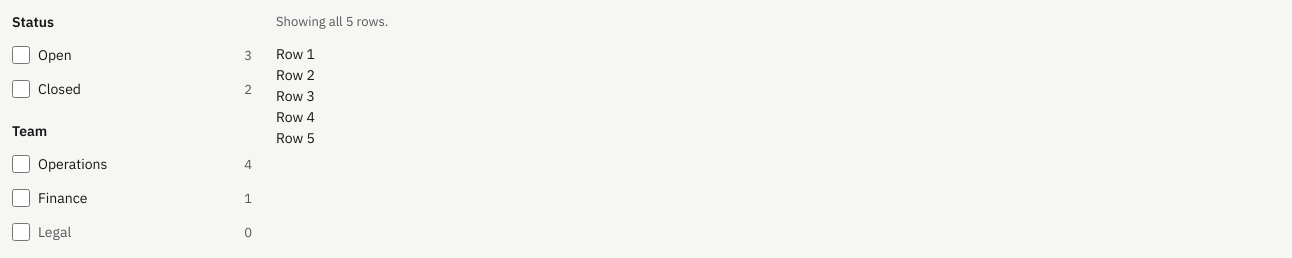
Test: FacetedFilters › moves focus to the results when the last chip or Clear all removes every filter (edge case)
This screenshot has width=1292, height=258.
Click the checkbox labelled "Closed 2". click: coordinates (21, 89)
box: [12,80,30,98]
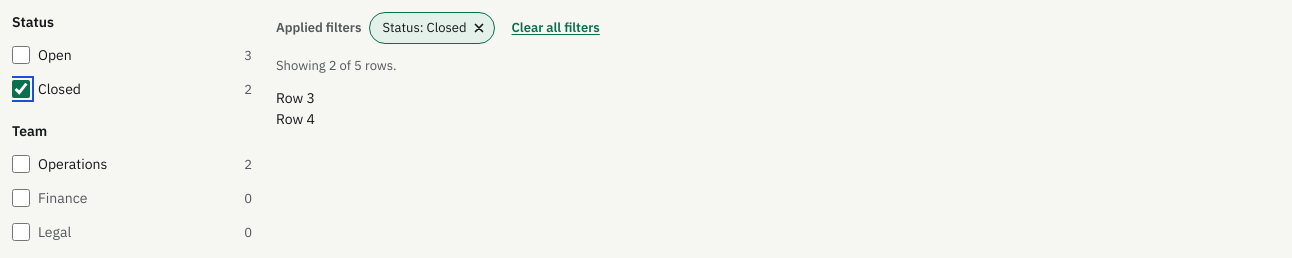
Click the button with aria-label "Remove filter Status: Closed". click: coordinates (432, 28)
box: [369,12,496,44]
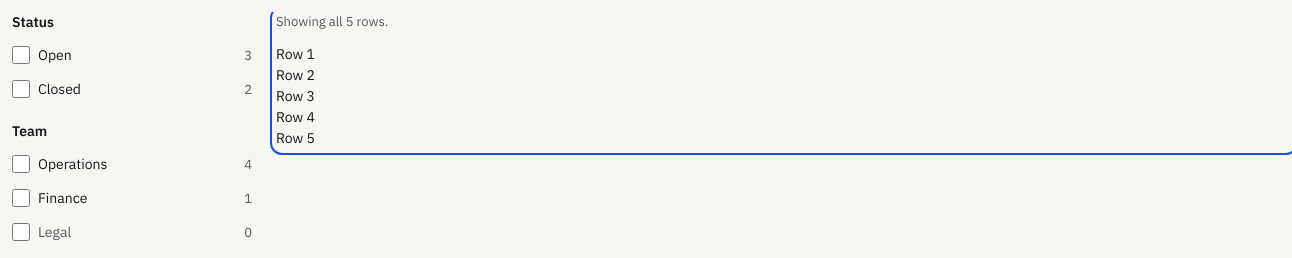
Expected: the text "Applied filters" is gone
Click the checkbox labelled "Open 3". click: coordinates (21, 55)
box: [12,46,30,64]
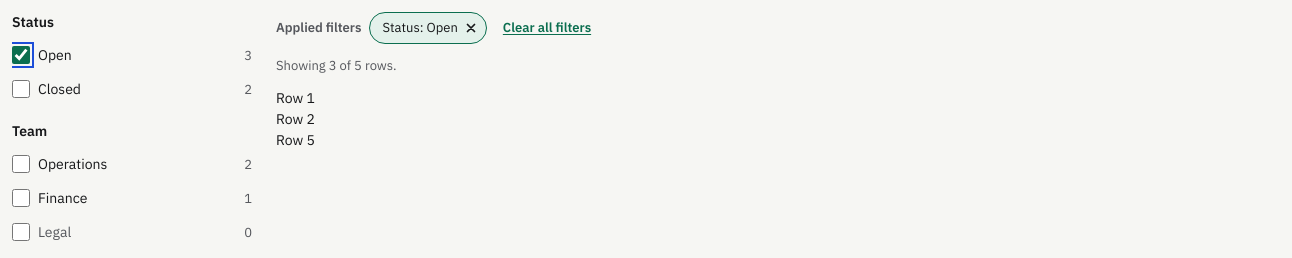
Click the checkbox labelled "Finance 1". click: coordinates (21, 198)
box: [12,189,30,207]
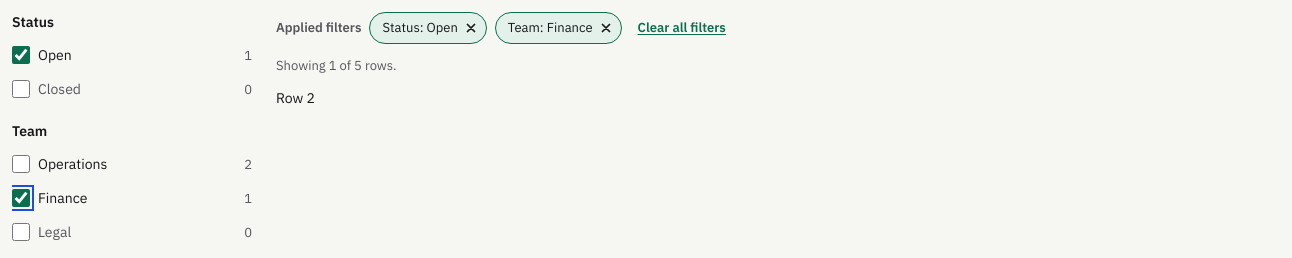
Click the button "Clear all filters". click: coordinates (682, 28)
box: [630,12,734,44]
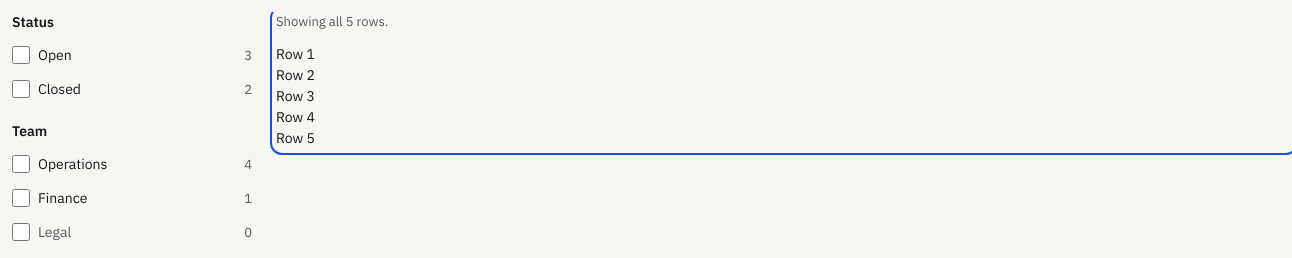
Expected: the message reads "Showing all 5 rows.", [276,13,388,30]
